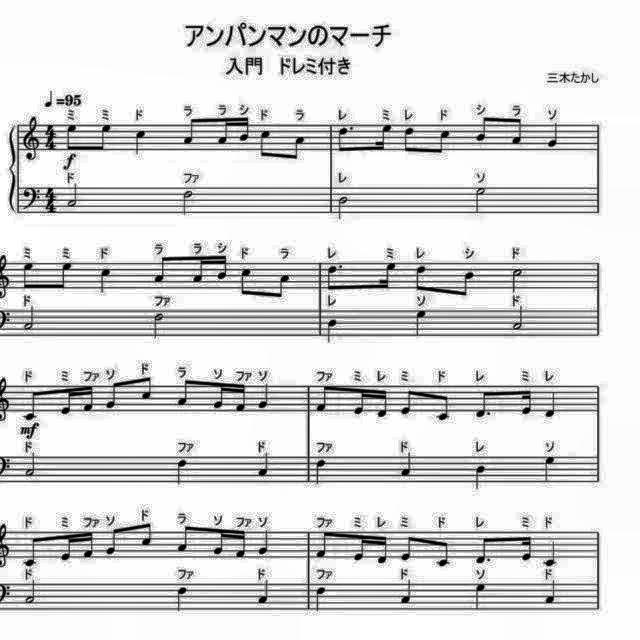Bass-clef: (21, 184, 43, 213)
Eighth-note: (20, 534, 42, 570), (22, 386, 42, 422), (272, 270, 294, 302), (234, 266, 254, 300), (56, 260, 76, 294), (433, 538, 453, 572), (474, 534, 494, 568), (458, 268, 479, 300), (176, 526, 196, 558), (398, 385, 418, 417), (288, 134, 308, 166), (412, 262, 432, 294), (474, 385, 494, 417), (316, 530, 336, 562), (150, 256, 170, 288), (178, 114, 198, 146), (316, 380, 336, 412), (104, 524, 122, 558), (94, 122, 112, 156), (323, 262, 342, 294), (472, 112, 491, 144), (433, 393, 452, 425), (433, 128, 453, 158), (336, 124, 356, 154), (176, 376, 196, 406), (398, 532, 416, 564), (256, 128, 274, 160), (104, 380, 122, 412), (402, 125, 420, 156), (507, 118, 525, 148), (137, 373, 155, 402), (22, 260, 38, 292), (64, 122, 80, 154), (137, 520, 155, 548)
Half-note: (150, 310, 170, 340), (178, 189, 196, 219), (471, 184, 489, 214), (23, 578, 41, 606), (508, 306, 526, 334), (21, 304, 39, 332), (66, 180, 82, 210), (24, 450, 40, 478), (336, 194, 352, 222), (508, 266, 524, 294)
Quarter-note: (542, 538, 562, 570), (543, 120, 561, 150), (97, 265, 115, 295), (132, 127, 150, 157), (413, 308, 431, 338), (257, 381, 275, 411), (173, 584, 191, 614), (472, 461, 490, 491), (173, 457, 190, 487), (255, 578, 273, 606), (541, 578, 559, 606), (397, 578, 415, 606), (323, 316, 341, 344), (255, 450, 273, 478), (397, 450, 415, 478), (544, 391, 560, 422), (472, 582, 488, 612), (540, 454, 556, 484), (312, 457, 328, 487), (258, 528, 274, 556), (312, 585, 328, 613)
Sixteenth-note: (376, 260, 399, 292), (372, 122, 394, 154), (374, 532, 392, 568), (57, 532, 75, 566), (58, 384, 76, 418), (190, 256, 210, 286), (374, 387, 391, 421), (234, 527, 250, 561), (233, 380, 250, 412), (350, 388, 368, 418), (80, 382, 96, 414), (211, 530, 227, 562), (518, 531, 534, 563), (80, 528, 96, 560), (352, 531, 368, 563), (213, 118, 230, 148), (518, 387, 534, 418), (214, 255, 230, 283), (234, 118, 250, 146), (212, 379, 226, 409)
Treble-clef: (21, 114, 44, 164)
